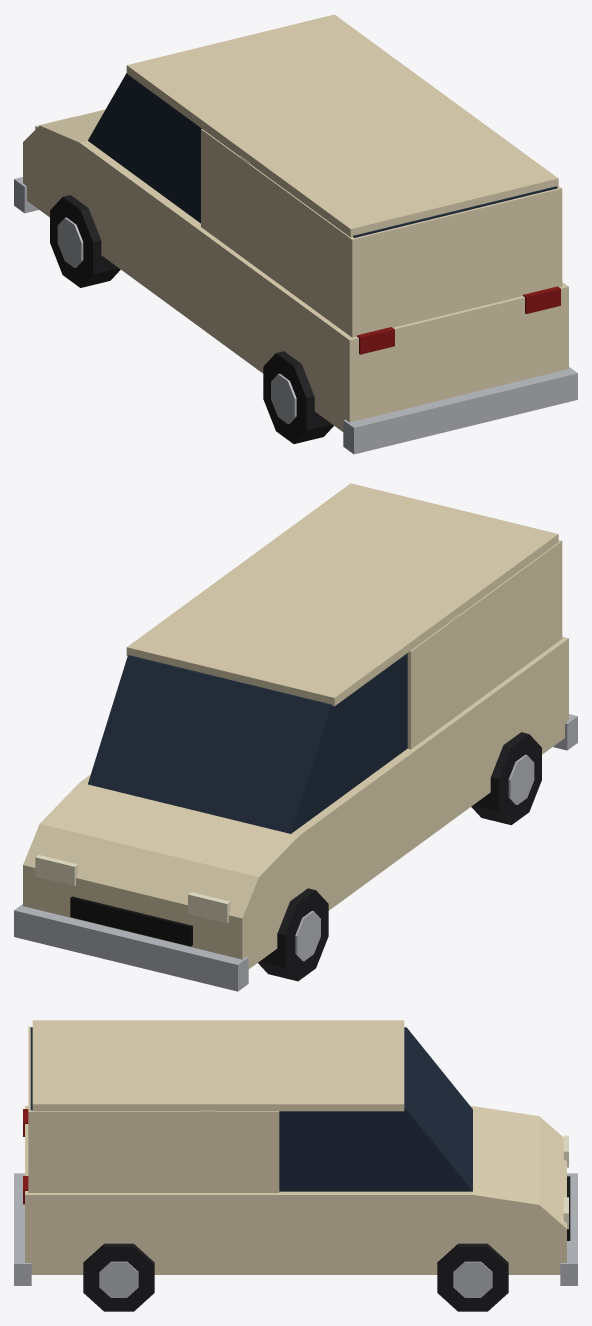
Rendered from CarVanCream.obj.
The picture shows the model from 3 angles, top to bottom: view 1: azimuth 30°, elevation 25°; view 2: azimuth 150°, elevation 25°; view 3: azimuth 270°, elevation 25°; orthographic projection. The views are drawn at different scales.
Visible parts, largest first — view 1: CarVanCream; view 2: CarVanCream; view 3: CarVanCream.
Boxes of the visible parts, <box> form: CarVanCream: <box>14,14,577,454</box>; CarVanCream: <box>14,483,577,991</box>; CarVanCream: <box>14,1020,577,1311</box>.
Size of the model in its own units: 2.07 by 2.01 by 5.1.
1 material, 1 textured.
